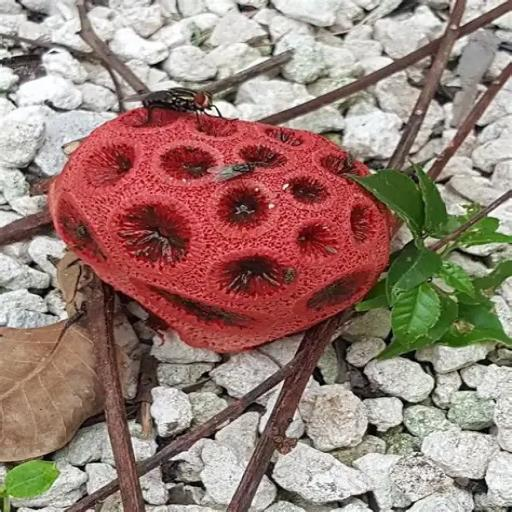Red Cage Fungus: (52, 106, 391, 348)
